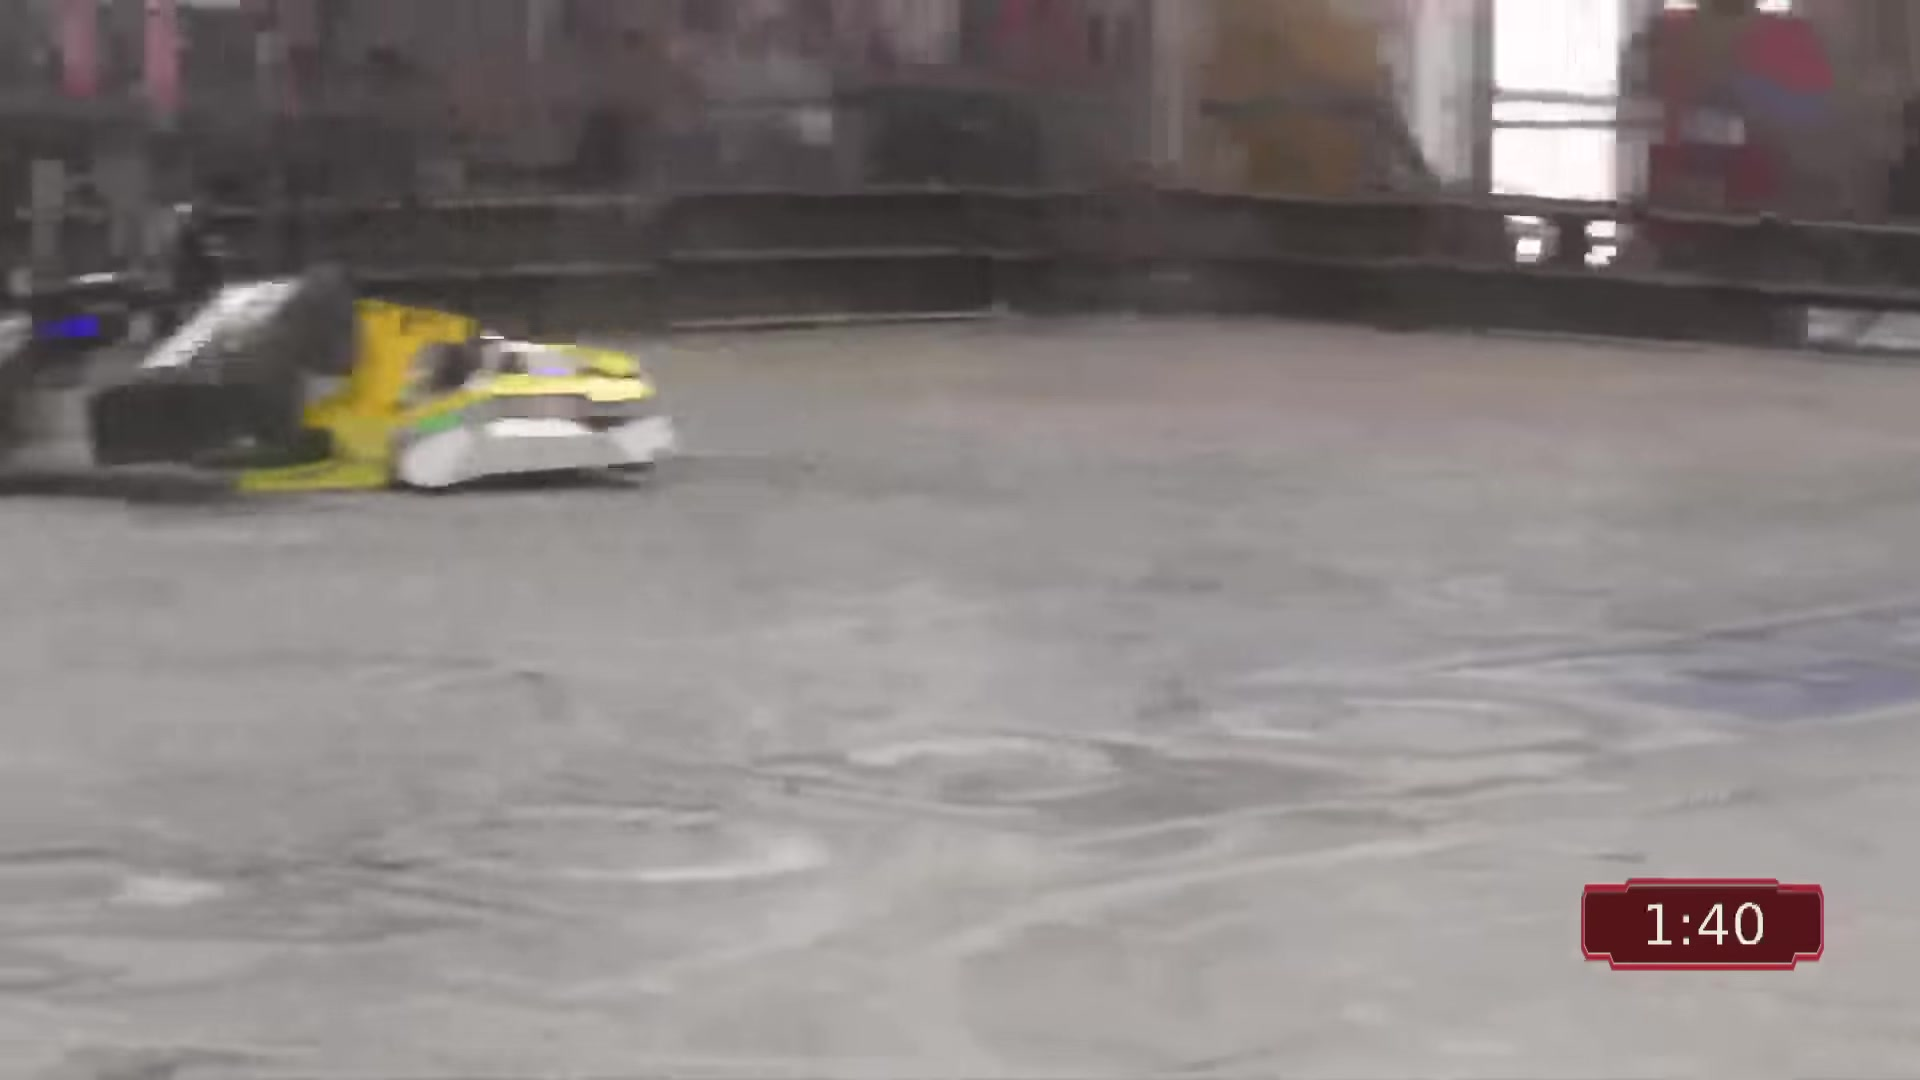combatbot: (344, 294, 671, 485), (95, 277, 339, 450)
